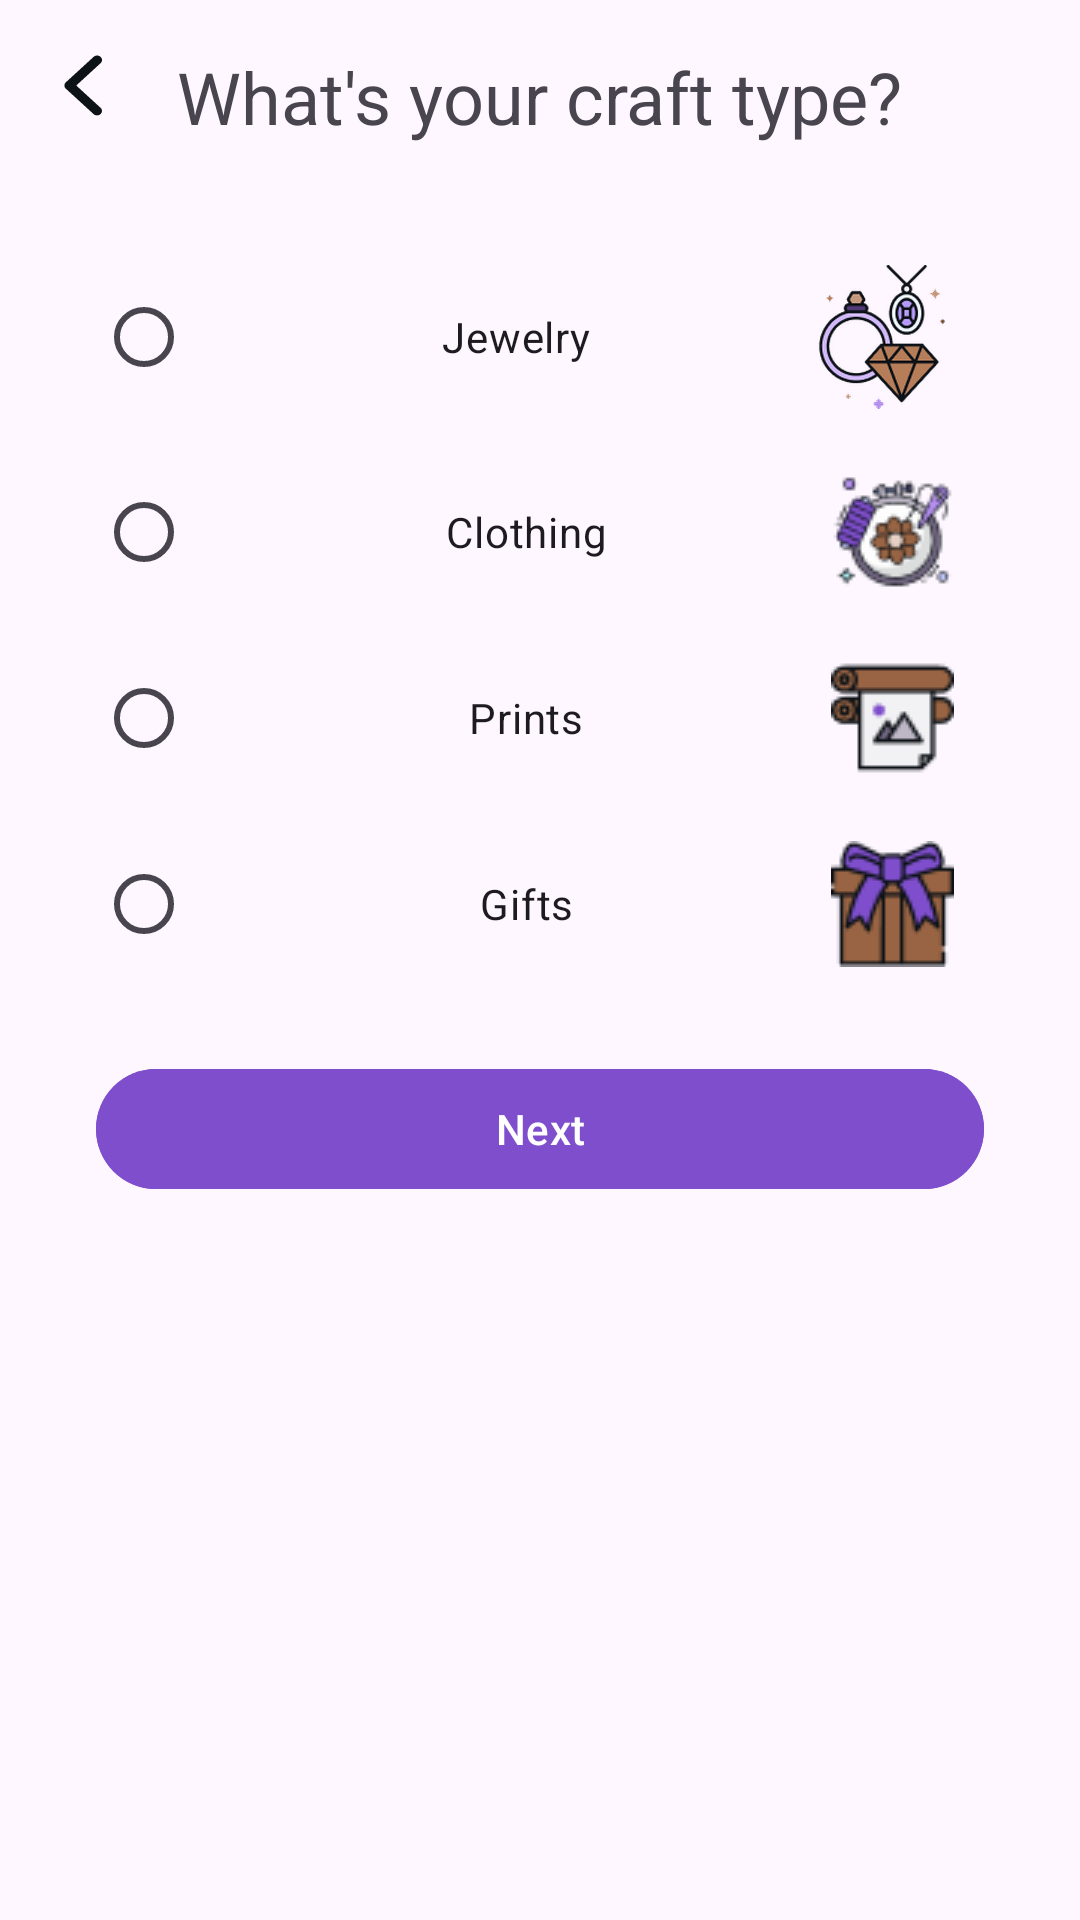

Named icons in this screenshot (1080px x 1920px) and their bounding boxes, (x1, y1, x2, y2):
back: (64, 55, 102, 116)
